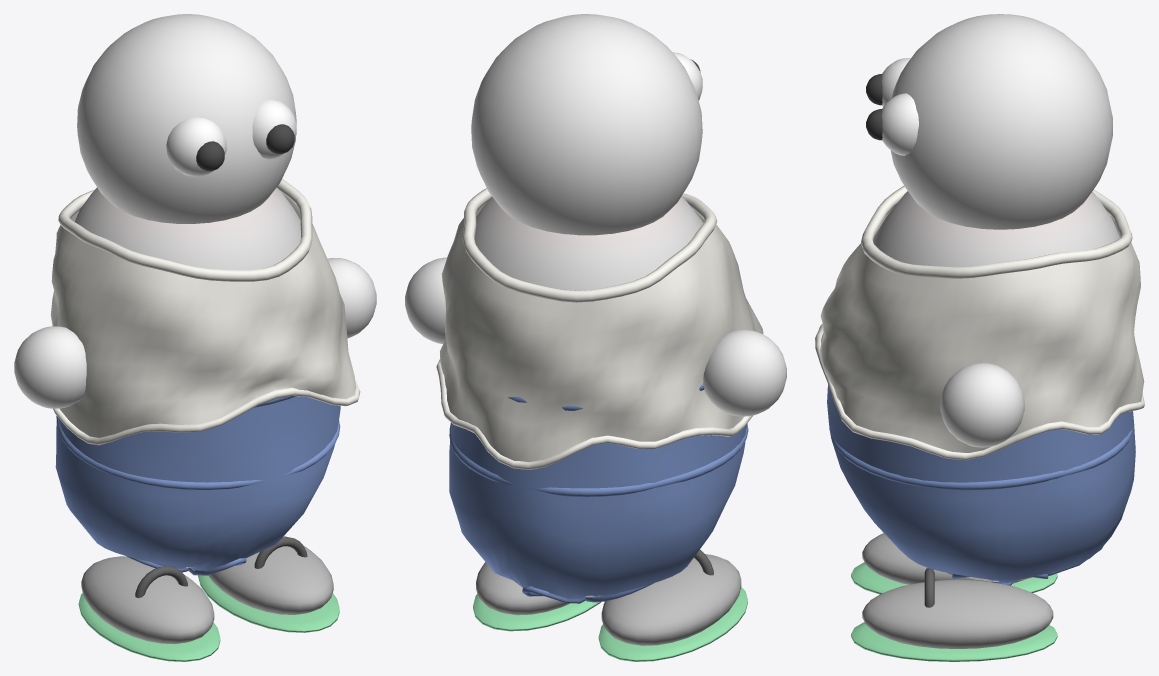
Rendered from blob_classic.glb.
3 views of the same model, side by side, from view 1: azimuth 30°, elevation 25°; view 2: azimuth 150°, elevation 25°; view 3: azimuth 270°, elevation 25° (orthographic). The views are drawn at different scales.
Parts seen in each view (by area): view 1: Singlet, Head, Shorts_boardies, Torso, FootL, FootR, HandR, SingletNeck, ThongL, ThongR, SingletHem, HandL (+7 smaller); view 2: Singlet, Head, Shorts_boardies, Torso, FootL, HandR, SingletNeck, SingletHem, ThongL, HandL, FootR, Shorts_budgies_band (+1 smaller); view 3: Singlet, Head, Shorts_boardies, FootR, Torso, HandL, SingletNeck, ThongR, SingletHem, Shorts_budgies_band, FootL, EyeR (+2 smaller).
Part boxes in pixels (<box>): Singlet: <box>50,194,355,437</box>; Head: <box>77,14,296,223</box>; Shorts_boardies: <box>55,396,340,570</box>; Torso: <box>74,187,300,567</box>; FootL: <box>81,556,214,644</box>; FootR: <box>208,535,333,614</box>; HandR: <box>14,326,86,408</box>; SingletNeck: <box>58,179,312,281</box>; ThongL: <box>78,593,220,661</box>; ThongR: <box>198,575,339,632</box>; SingletHem: <box>53,380,360,445</box>; HandL: <box>327,258,376,338</box>; Singlet: <box>440,202,763,462</box>; Head: <box>471,14,702,235</box>; Shorts_boardies: <box>449,423,746,599</box>; Torso: <box>474,196,703,597</box>; FootL: <box>601,554,741,645</box>; HandR: <box>703,329,786,416</box>; SingletNeck: <box>462,188,717,302</box>; SingletHem: <box>436,359,752,469</box>; ThongL: <box>598,587,747,661</box>; HandL: <box>405,257,446,343</box>; FootR: <box>476,562,569,615</box>; Shorts_budgies_band: <box>449,423,748,496</box>; Singlet: <box>820,206,1144,452</box>; Head: <box>890,14,1112,229</box>; Shorts_boardies: <box>827,384,1135,583</box>; FootR: <box>862,579,1053,648</box>; Torso: <box>873,191,1120,581</box>; HandL: <box>940,363,1024,447</box>; SingletNeck: <box>861,186,1132,278</box>; ThongR: <box>851,622,1057,661</box>; SingletHem: <box>815,323,1144,460</box>; Shorts_budgies_band: <box>830,426,1133,490</box>; FootL: <box>862,533,1025,584</box>; EyeR: <box>882,93,918,155</box>.
Size of the model in its own units: 1.18 by 1.84 by 0.9332.
